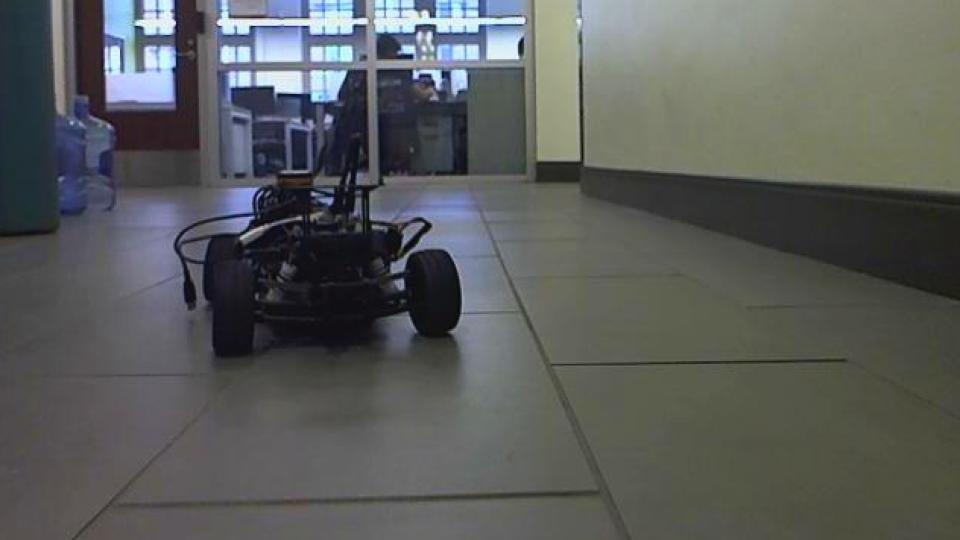car: (170, 134, 465, 360)
